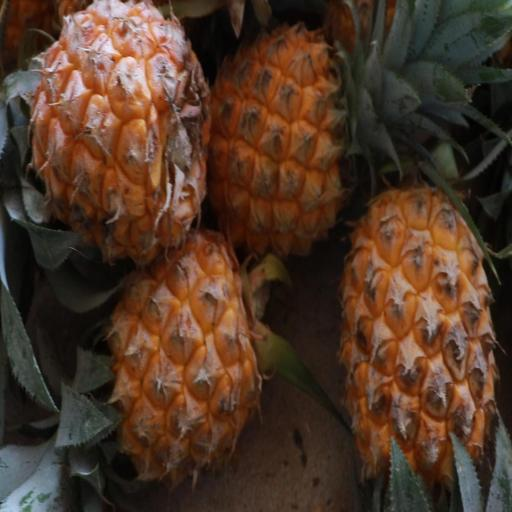Pineapple - v8 v1: (333, 177, 512, 510), (0, 0, 212, 280), (76, 217, 263, 491), (198, 11, 376, 267)
